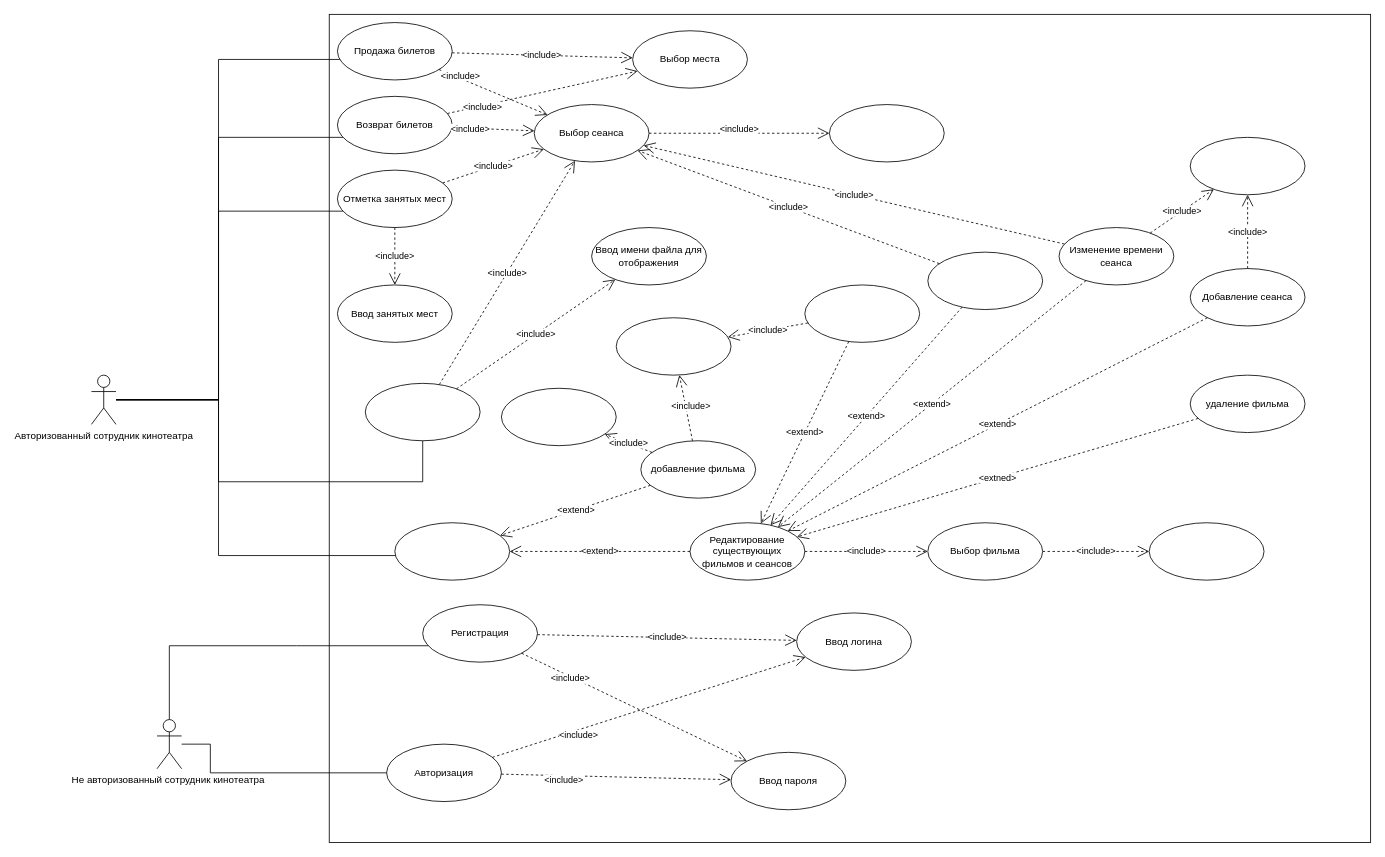
This 1385x857 diagram has some shape labels left out. The centre of each missing label's shape, as x and y in pixels:
"Ввод времени сеанса" belongs at (x=1247, y=166).
"Ввод названия фильма" belongs at (x=558, y=416).
"Ввод описания фильма" belongs at (x=673, y=346).
"Изменение описания фильма" belongs at (x=862, y=313).
"Отображение свободных и проданных мест для выбранного сеанса" belongs at (x=422, y=412).
"Просмотр каталога фильмов" belongs at (x=1206, y=551).
"Просмотр сеансов" belongs at (x=886, y=133).
"Редактирование данных о фильмах и их сеансах" belongs at (x=452, y=551).
"Удаление сеанса" belongs at (x=985, y=280).
